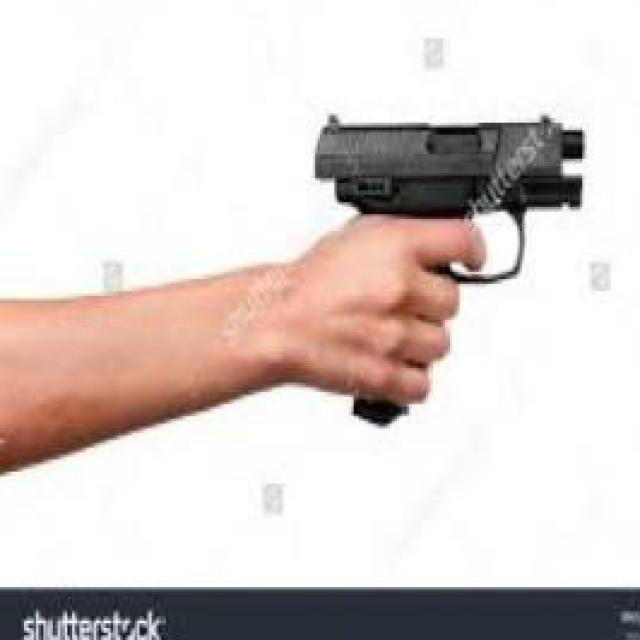pistol: (310, 103, 586, 440)
